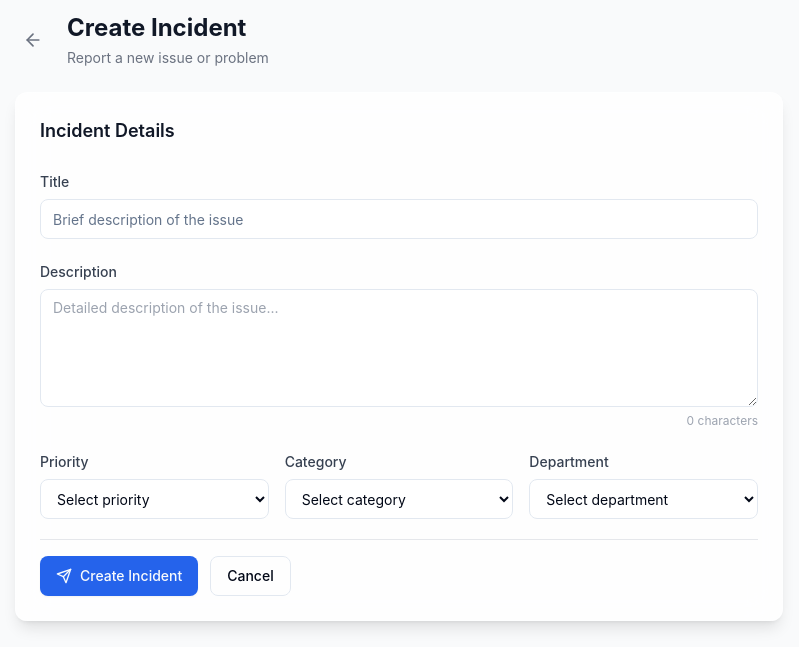
Test: CreateIncident › shows description character counter
Type "Hello World" into the text box with placeholder "Detailed description of the issue..." at (399, 348), box left=40, top=289, right=758, bottom=407
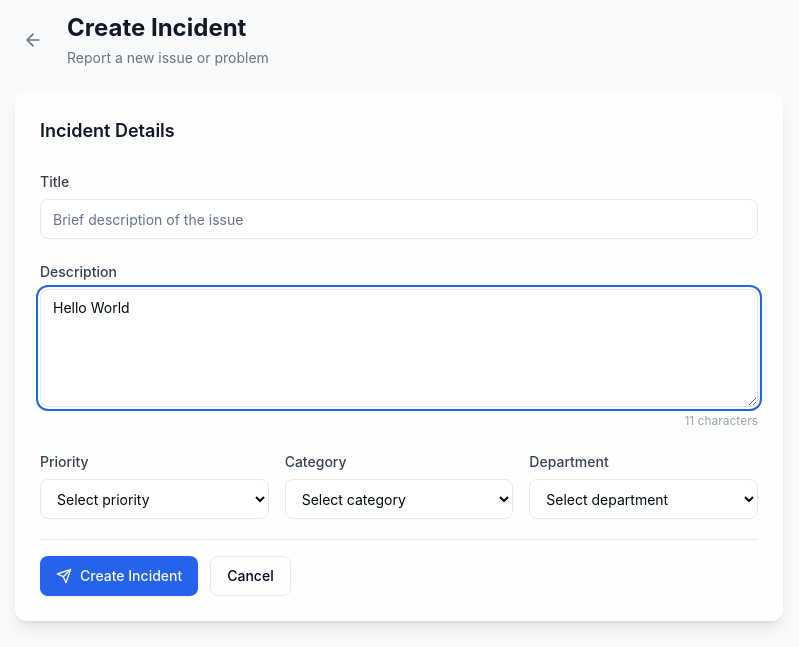
Check: the text "11 characters" is shown, box left=684, top=413, right=758, bottom=429
